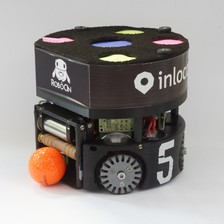ball: (27, 146, 69, 188)
robot: (33, 24, 190, 197)
